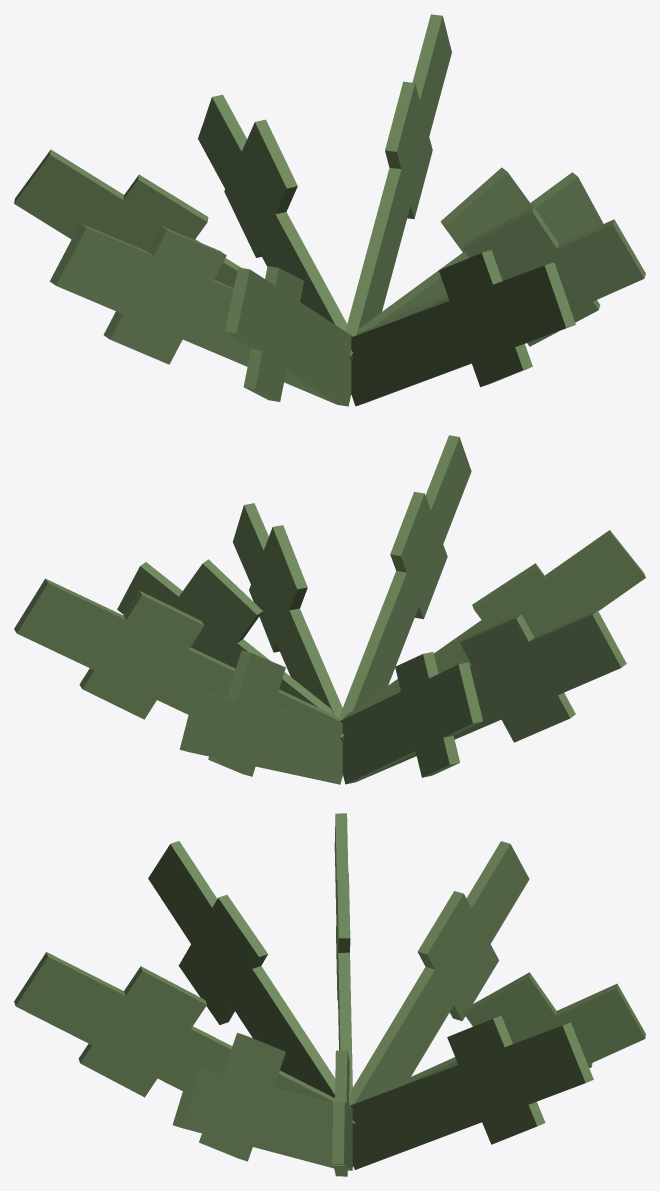
Rendered from fern.glb.
3 renders of one model, top to bottom at view 1: azimuth 30°, elevation 25°; view 2: azimuth 150°, elevation 25°; view 3: azimuth 270°, elevation 25°, orthographic. The views are drawn at different scales.
Parts seen in each view (by area): view 1: fern; view 2: fern; view 3: fern.
Part boxes in pixels (x1,y1,x2,y2): fern: (14,14,645,406); fern: (14,435,645,784); fern: (14,813,645,1176).
Bounding box in the file's own units: 1.53 × 0.6668 × 1.63.
